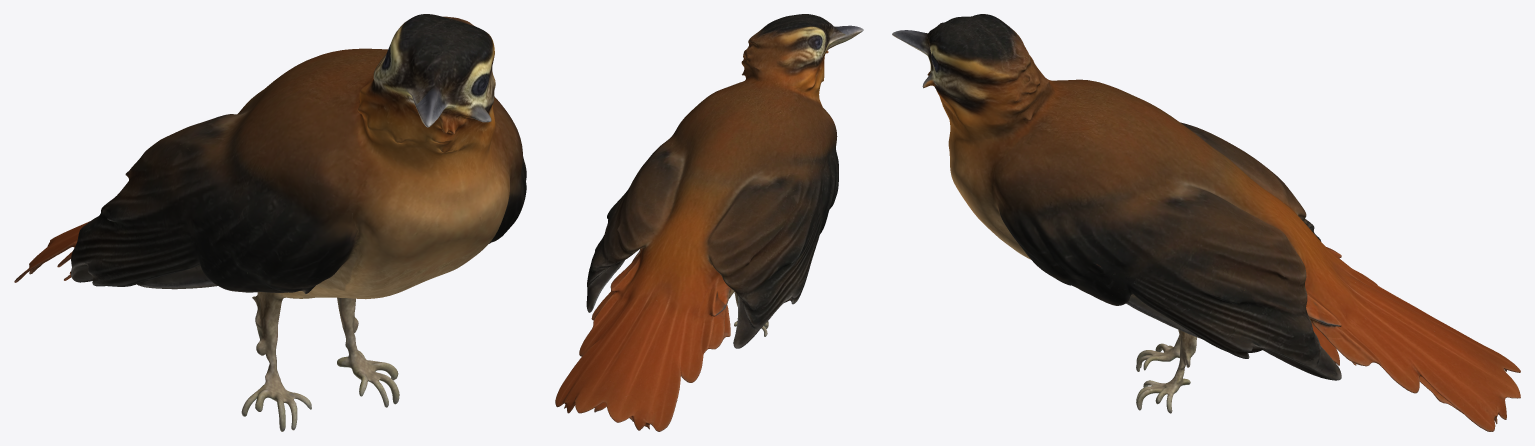
The model's file is Limpafolha.glb.
The picture shows the model from 3 angles, left to right: view 1: azimuth 30°, elevation 25°; view 2: azimuth 150°, elevation 25°; view 3: azimuth 270°, elevation 25°; orthographic projection. The views are drawn at different scales.
Size of the model in its own units: 0.9717 by 1.24 by 1.9.
Materials: 1 (1 with a texture image).
